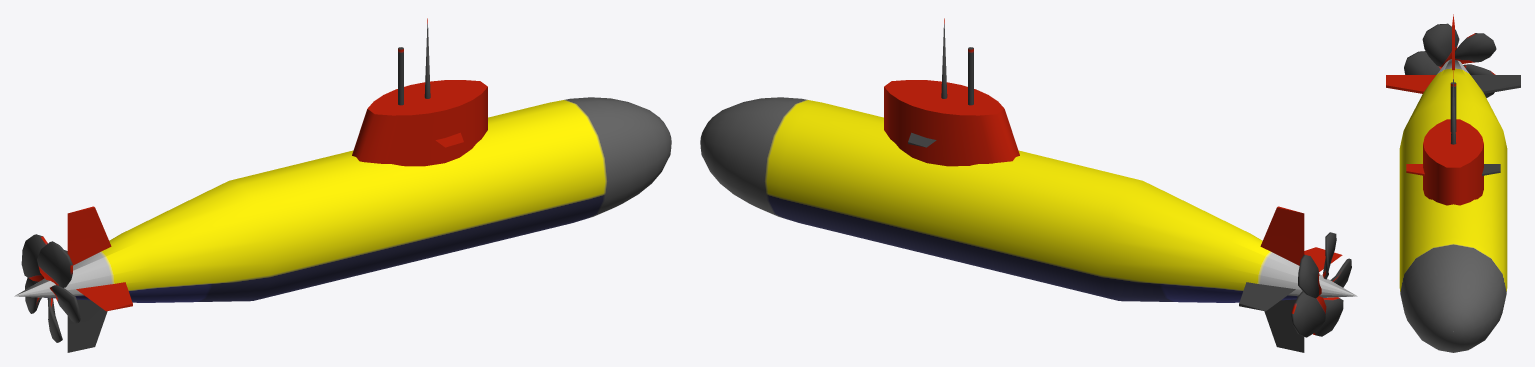
File: submarine.obj
3 renders of one model, left to right at view 1: azimuth 30°, elevation 25°; view 2: azimuth 150°, elevation 25°; view 3: azimuth 270°, elevation 25°, orthographic. The views are drawn at different scales.
Bounding box in the file's own units: 24.5 × 9 × 5.
Materials: 1 (1 with a texture image).
